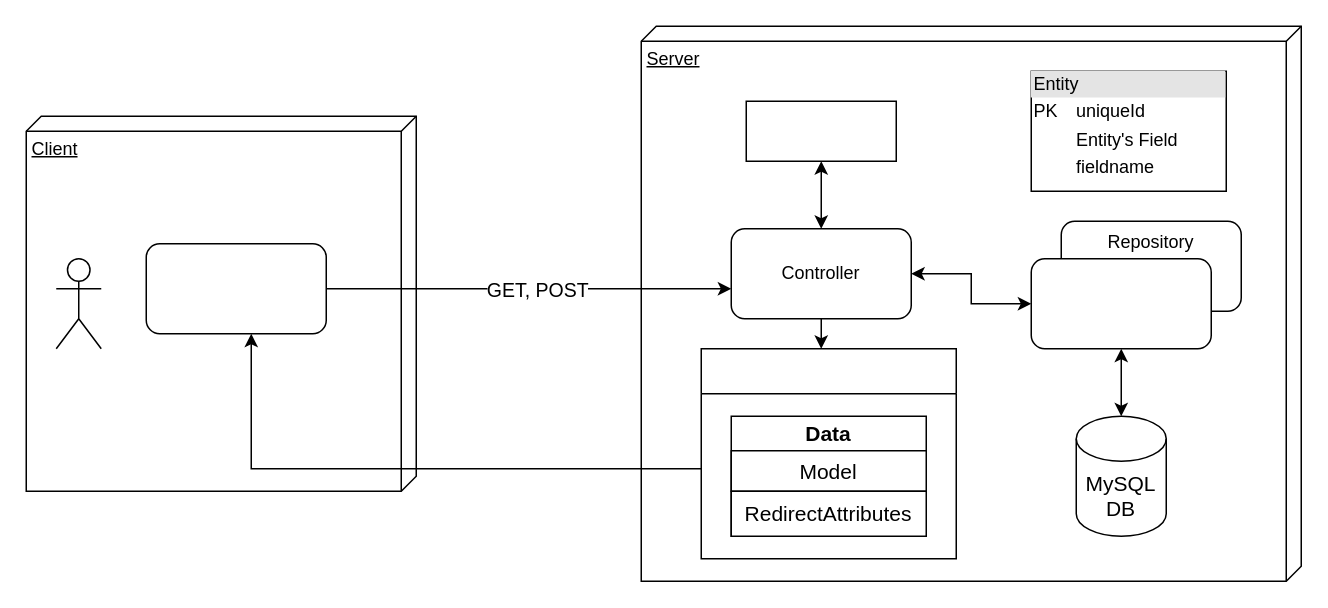
Some shapes in this 1328 by 608 pixel diagram are drawn without their labels. Each missing label, with the centre of its shape:
"Browser" belongs at (x=235, y=288).
"Service" belongs at (x=1120, y=303).
"Session" belongs at (x=820, y=130).
"User" belongs at (x=78, y=303).
"View" belongs at (x=828, y=453).
